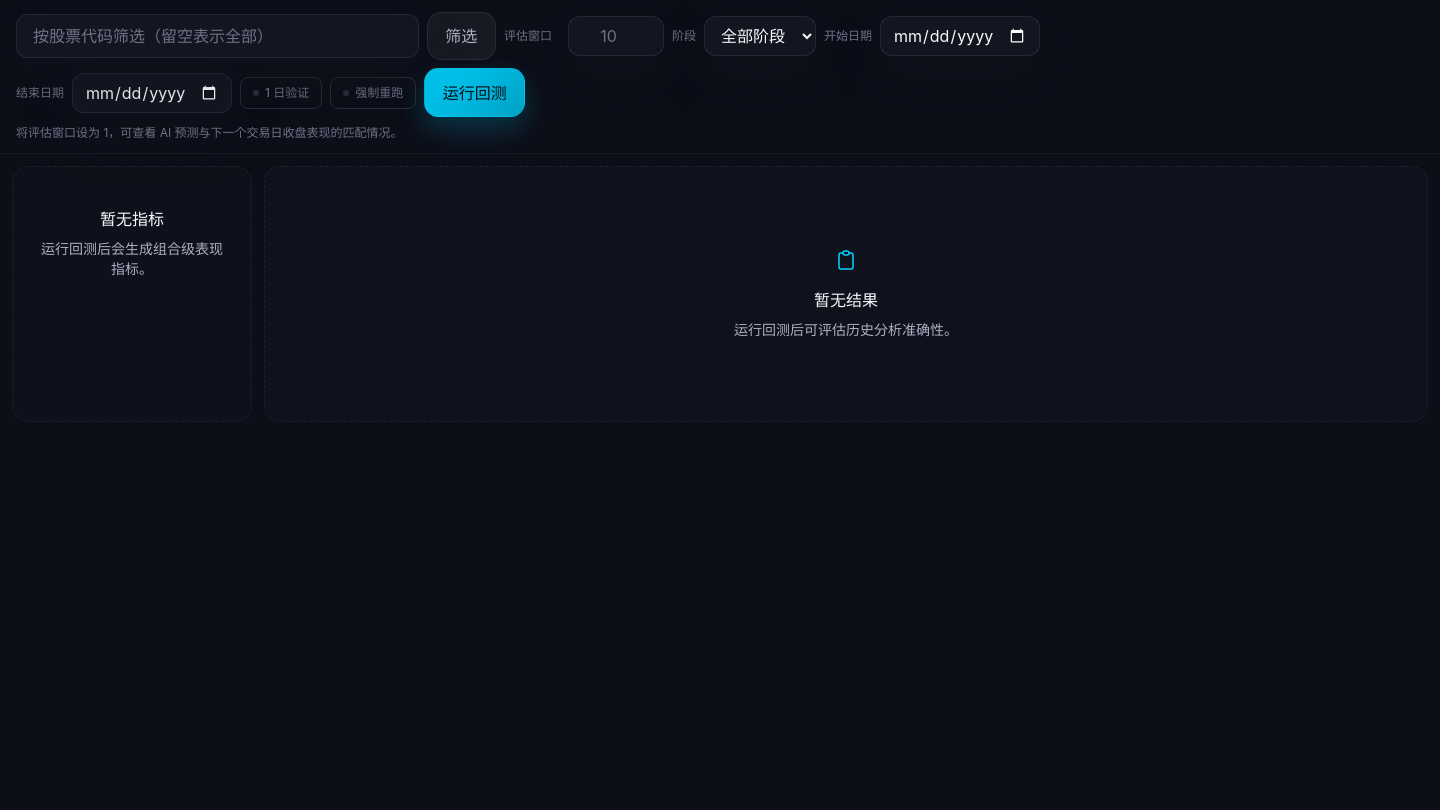
it: BacktestPage › runs a backtest and refreshes results using the shared filter values
Step 1. Type "600519.SH" into the field with placeholder "按股票代码筛选（留空表示全部）" → [217, 36], box [16,14,419,58]
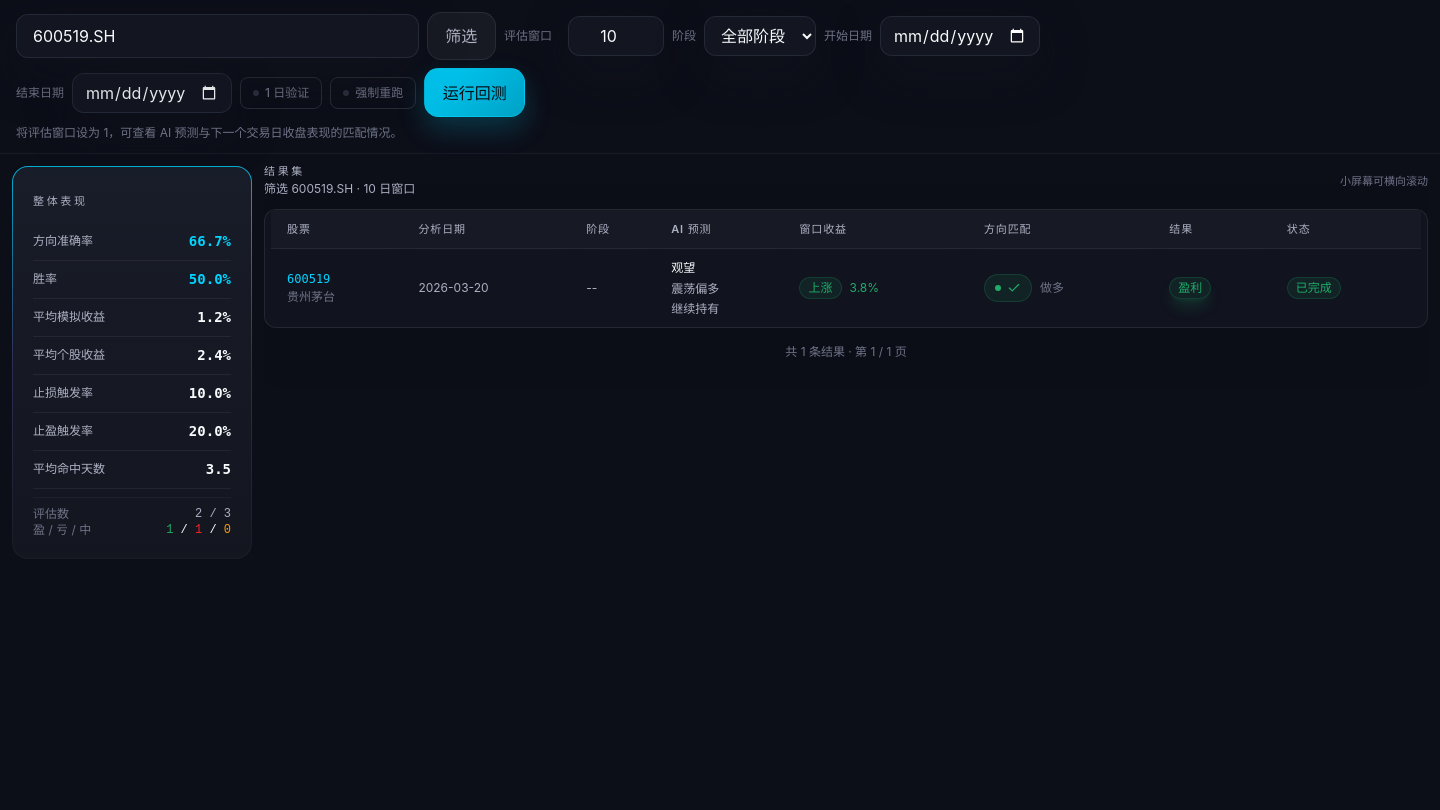
Step 2. Type "15" into the number field with placeholder "10" → [616, 36], box [568,16,664,56]
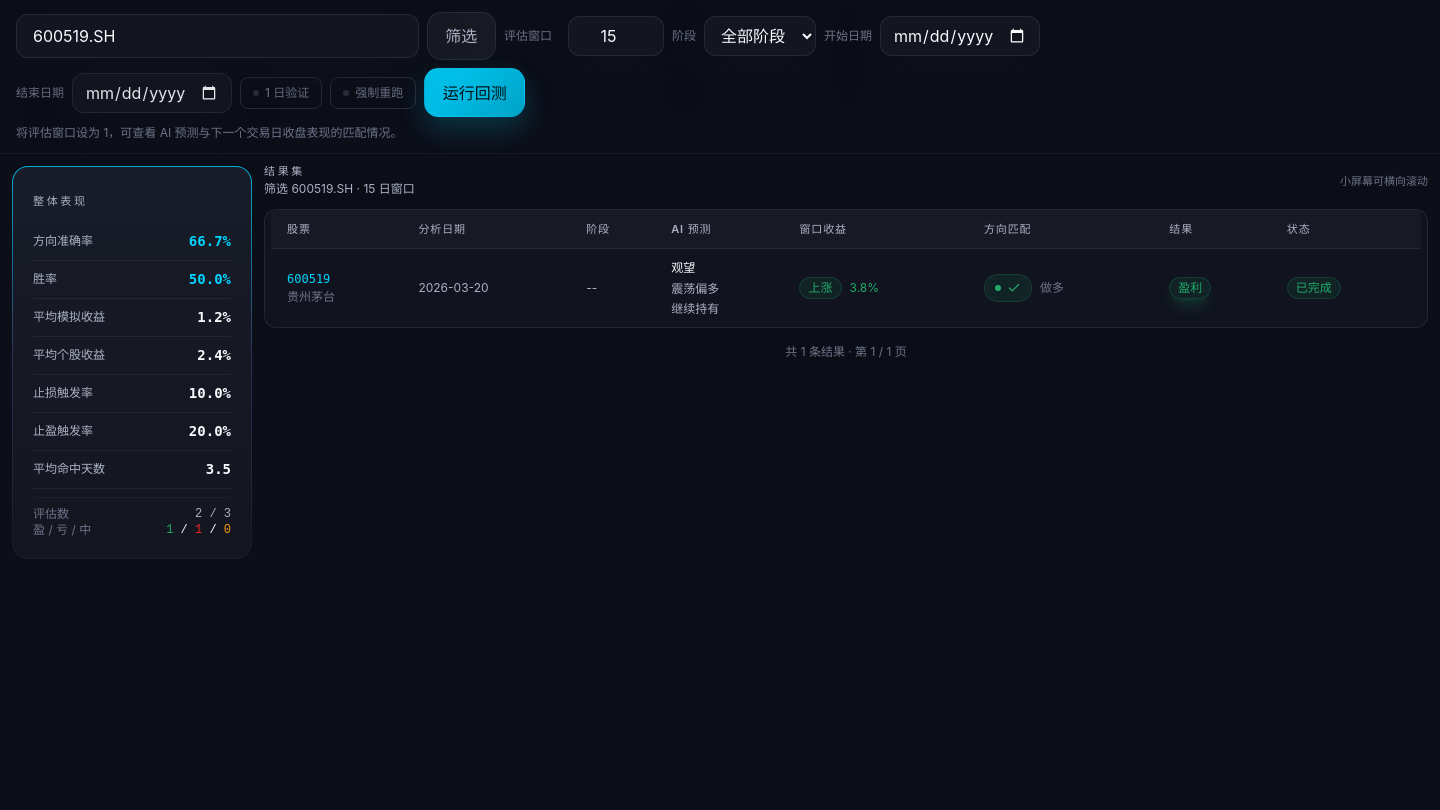
Step 3. Type "2026-03-01" into the date field named "分析开始日期" → [960, 36], box [880,16,1040,56]
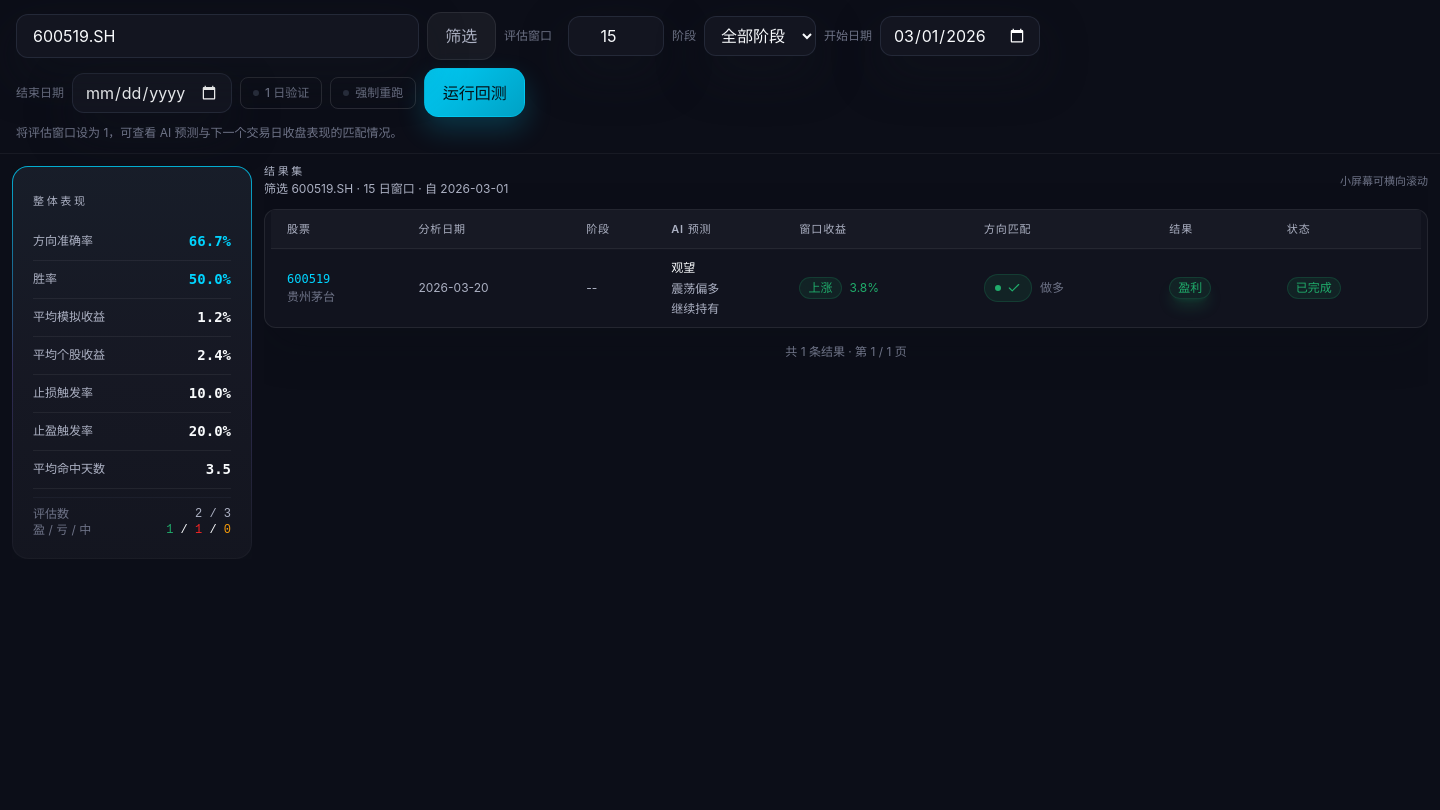
Step 4. Type "2026-03-31" into the date field named "分析结束日期" → [152, 93], box [72,73,232,113]
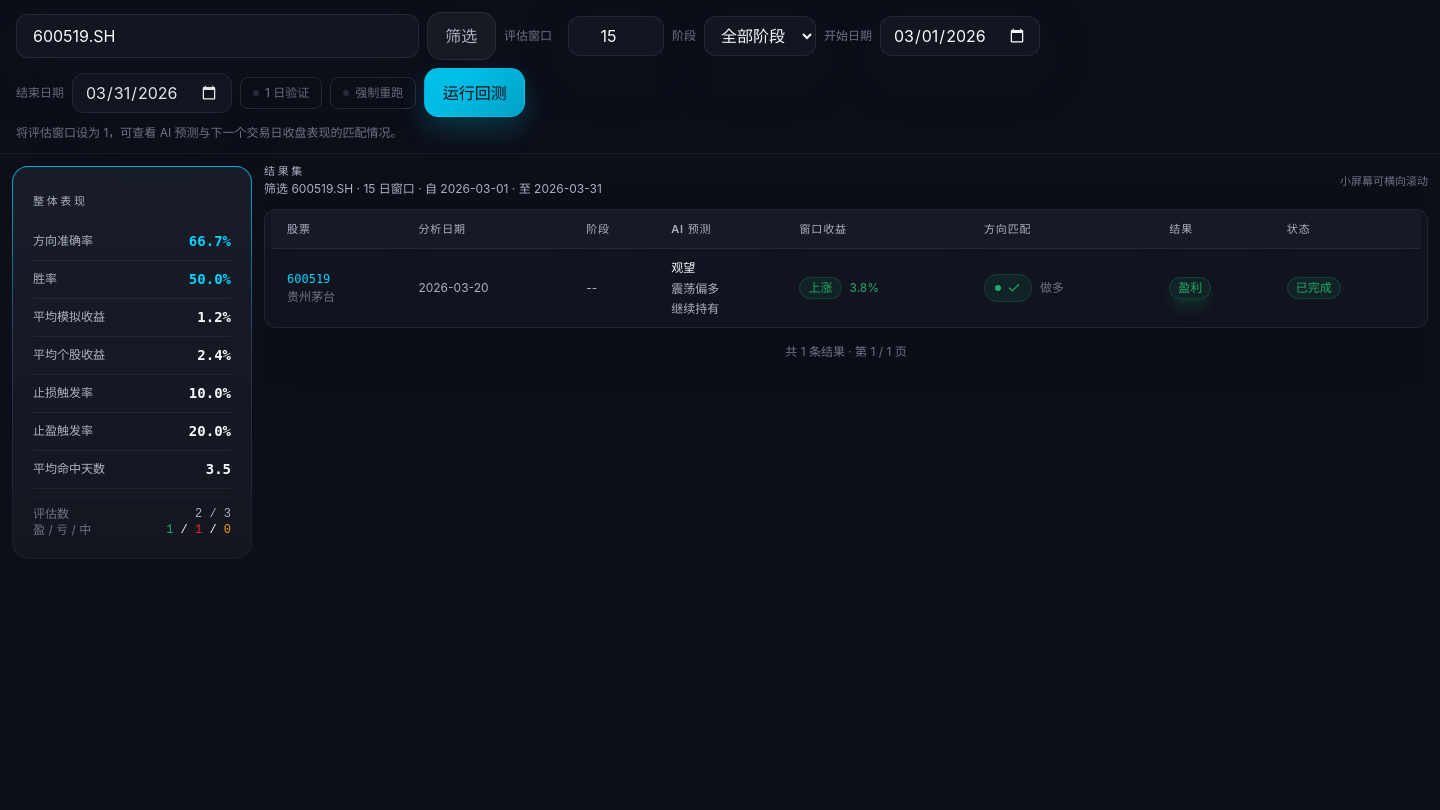
Step 5. Click the button "运行回测" → [475, 93], box [424,68,525,117]
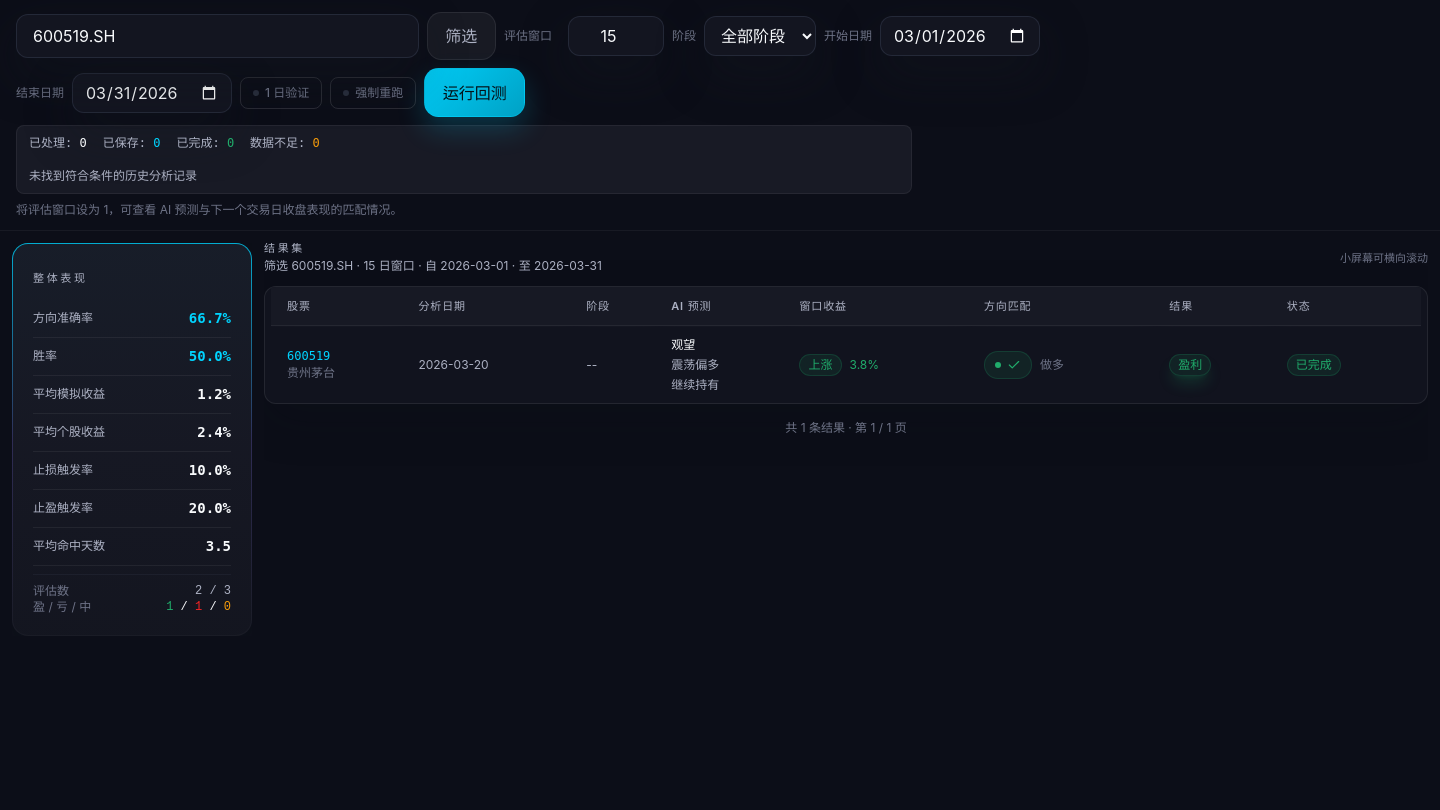
Now the text "已处理:" is shown, box [29,136,72,150]
Now the text "已保存:" is shown, box [103,136,146,150]
Now the text "未找到符合条件的历史分析记录" is shown, box [29,169,197,183]
